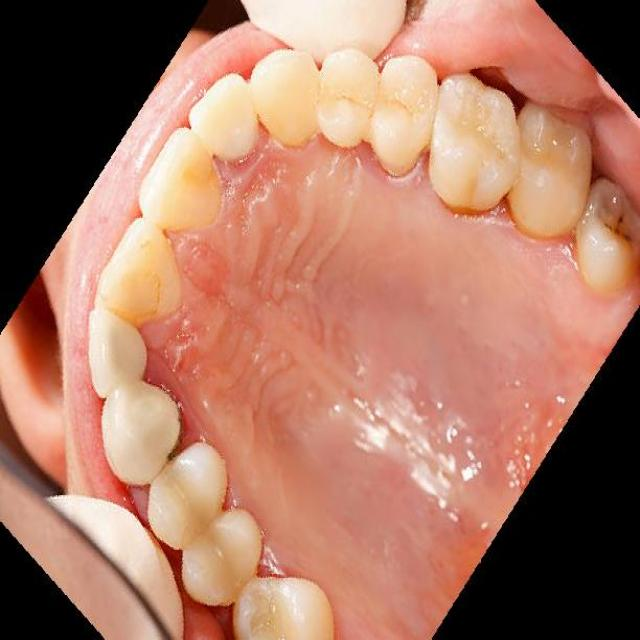caries: (130, 242, 168, 316), (601, 198, 635, 248)
